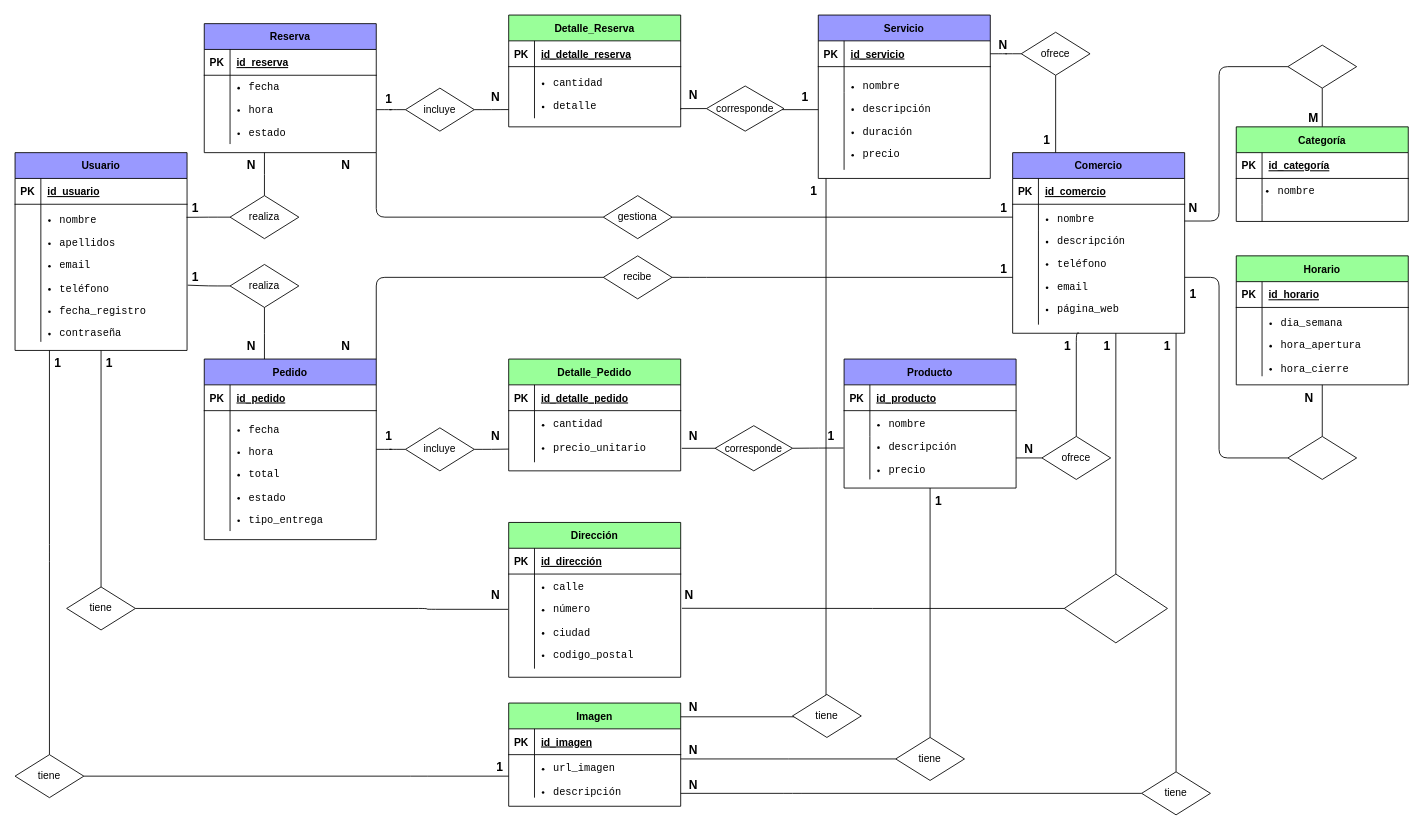
Image size: 1423x830. Some labels were removed from this diagram. Here are the shapes that lost their labels. From the top down, the centre of each, then its label:
At pixel 1322 66: "pertenece a".
At pixel 1322 457: "define".
At pixel 1115 608: "está ubicado en".
